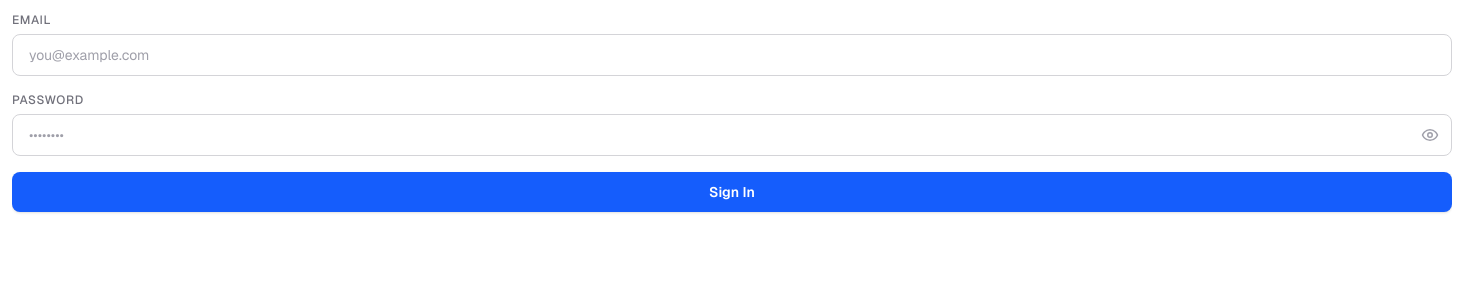
Test: LoginForm › shows generic credential error and clears the password field
Type "user@example.com" into the field labelled "Email" at (732, 55), box [12, 34, 1452, 76]
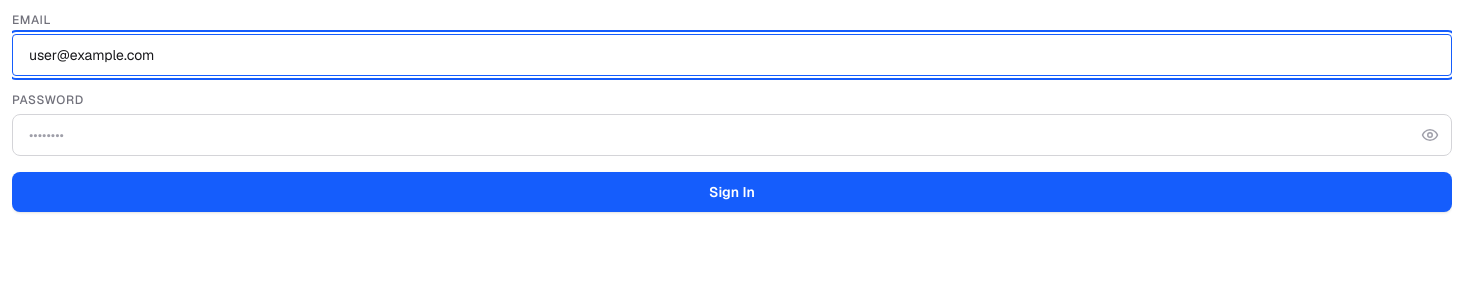
Type "wrong-password" into the password field labelled "Password" at (732, 135), box [12, 114, 1452, 156]
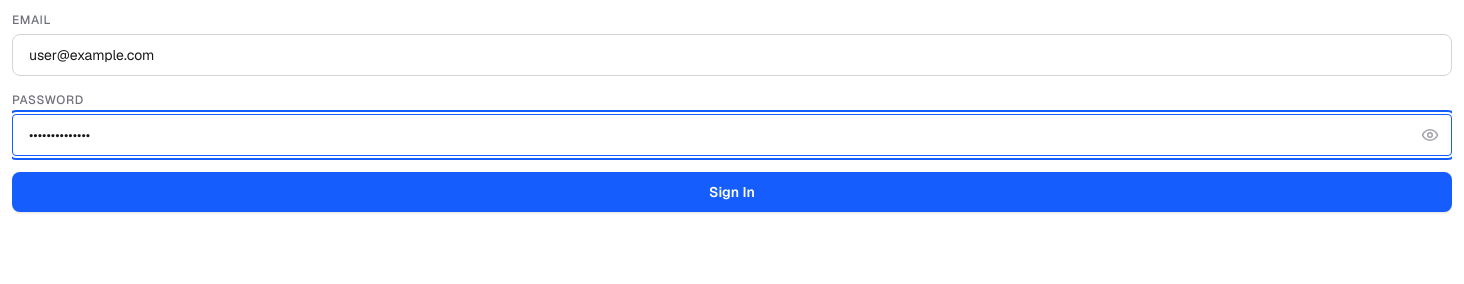
Click the button "Sign In" at (732, 192), box [12, 172, 1452, 212]
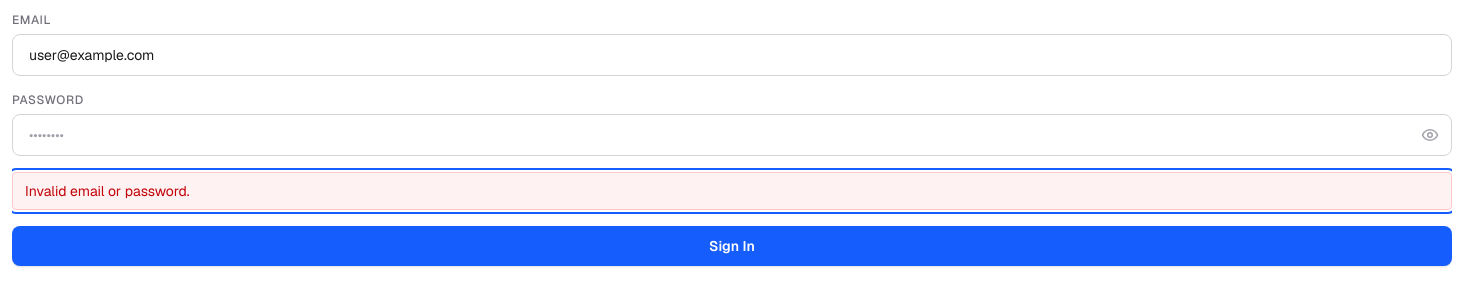
Expected: the message reads "Invalid email or password.", [25, 182, 190, 200]
